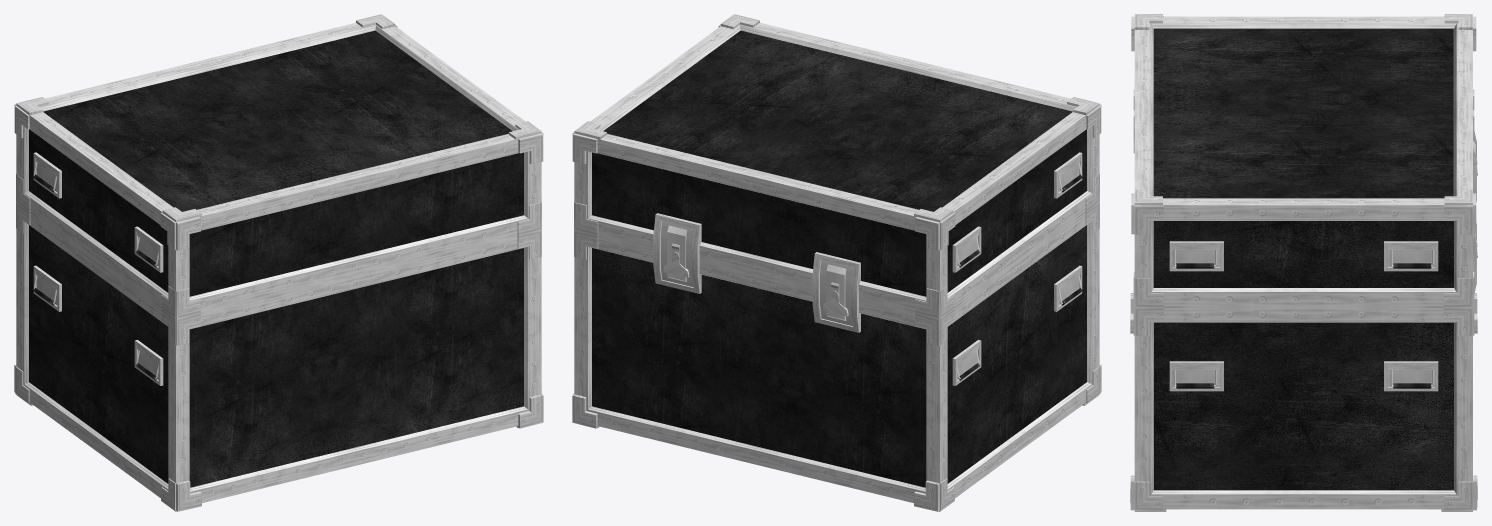
The model's file is flight_case_big_2.fbx.
The picture shows the model from 3 angles, left to right: view 1: azimuth 30°, elevation 25°; view 2: azimuth 150°, elevation 25°; view 3: azimuth 270°, elevation 25°; orthographic projection. The views are drawn at different scales.
Visible parts, largest first — view 1: flight_case_big_2; view 2: flight_case_big_2; view 3: flight_case_big_2.
Boxes of the visible parts, x1,y1,x2,y2 form: flight_case_big_2: (14,14,543,511); flight_case_big_2: (572,14,1101,511); flight_case_big_2: (1130,14,1477,511).
Size of the model in its own units: 1.65 by 1.24 by 1.26.
